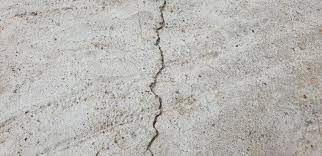crack: (141, 0, 165, 154)
